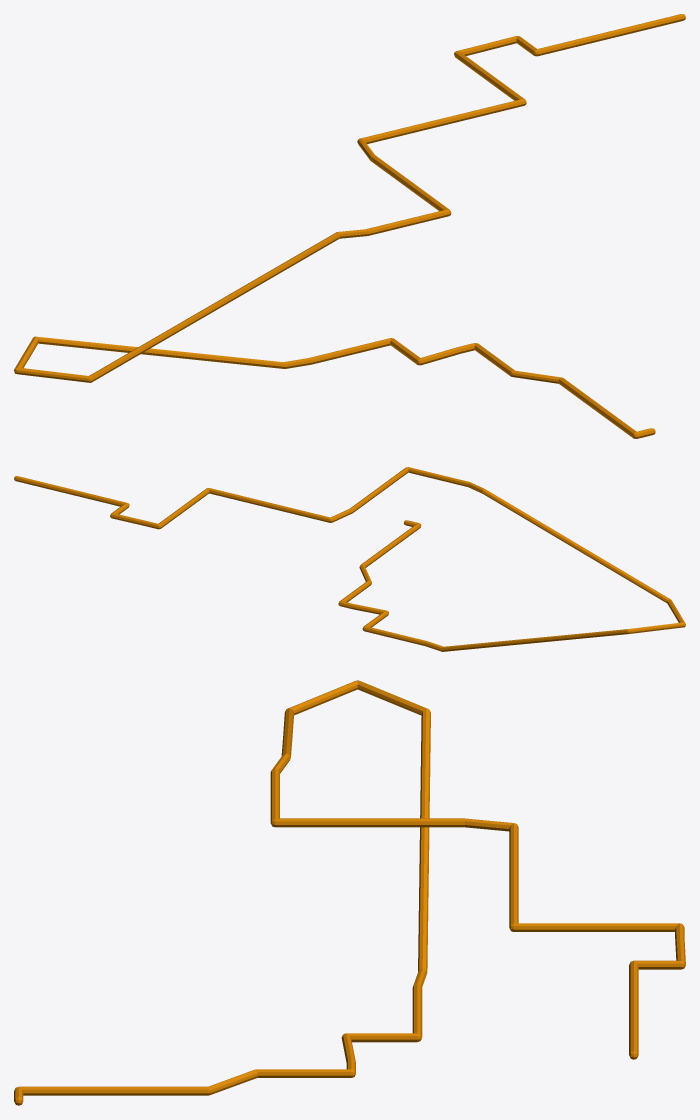
3 renders of one model, top to bottom at view 1: azimuth 30°, elevation 25°; view 2: azimuth 150°, elevation 25°; view 3: azimuth 270°, elevation 25°, orthographic. The views are drawn at different scales.
Size of the model in its own units: 2406 by 520 by 1418.
